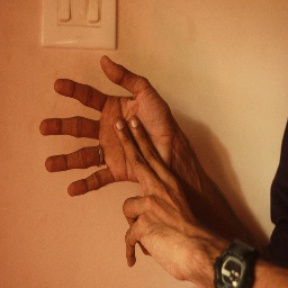N: (31, 53, 199, 232)
